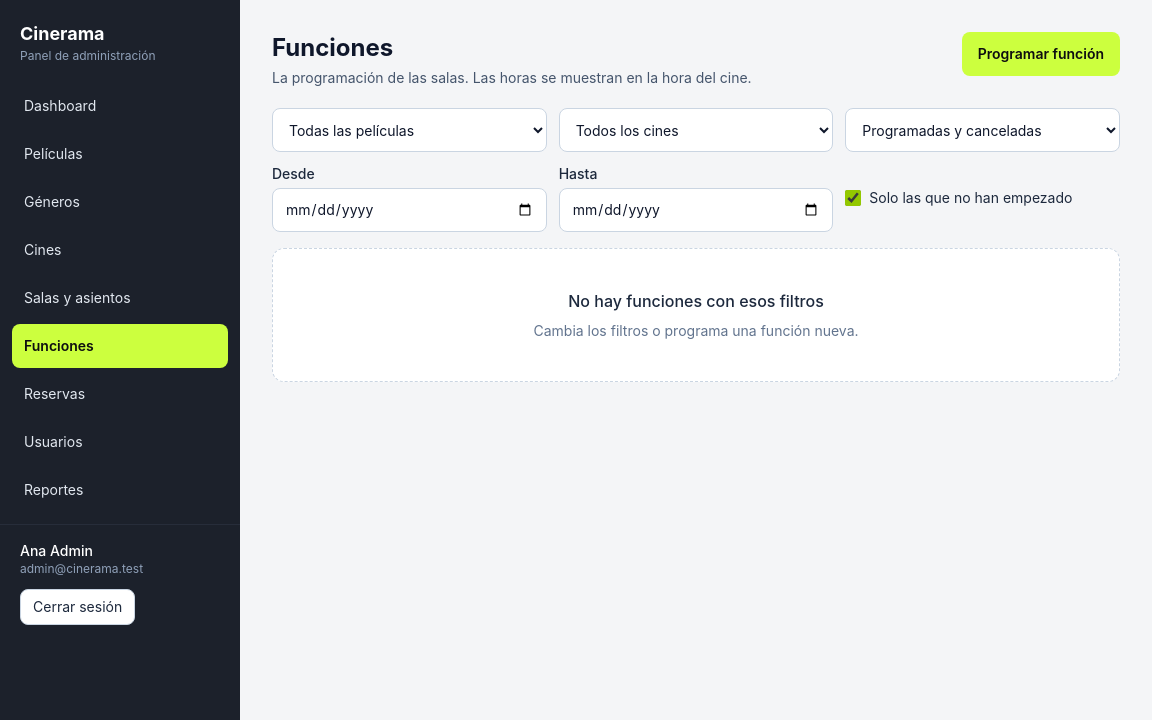
Test: Funciones › la hora que escribe el administrador se envía como UTC según la zona del cine, no la del navegador
Click the button "Programar función": point(1041, 54) [962,32,1120,76]
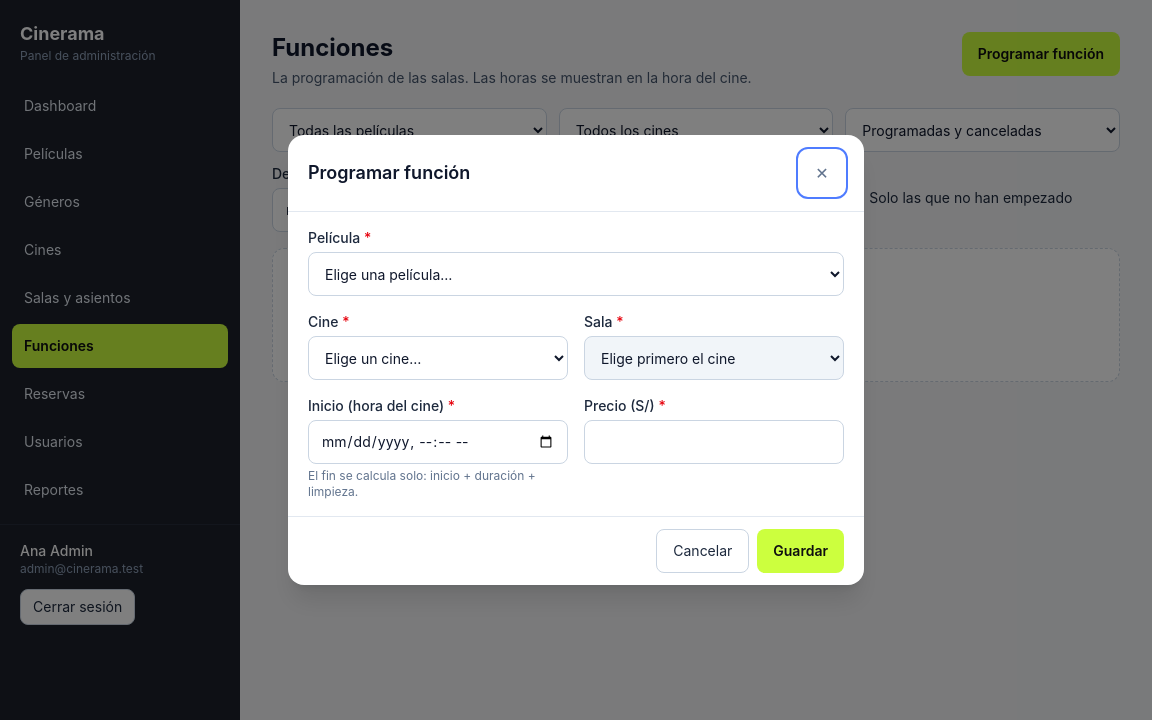
Select "Dune" in the dropdown labelled "Película *": point(576, 274) [308,252,844,296]
Select "Cinerama Centro" in the dropdown labelled "Cine *": point(438, 358) [308,336,568,380]
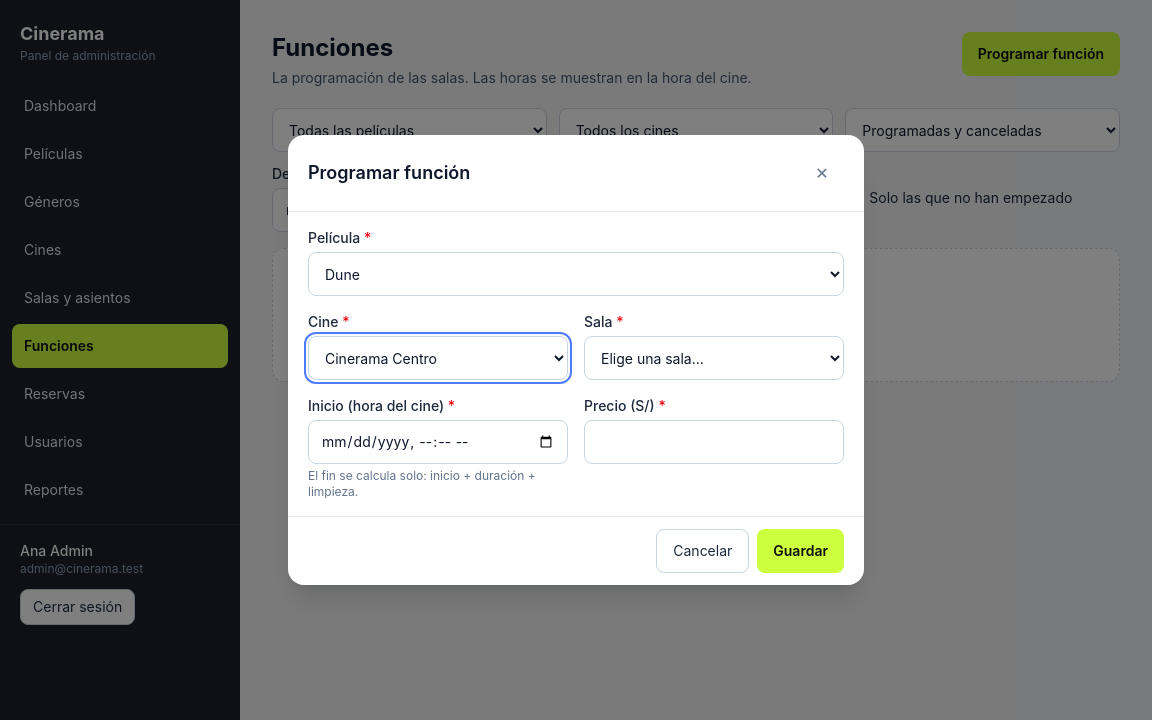
Select "Sala 1 (12 asientos)" in the dropdown labelled "Sala *": point(714, 358) [584,336,844,380]
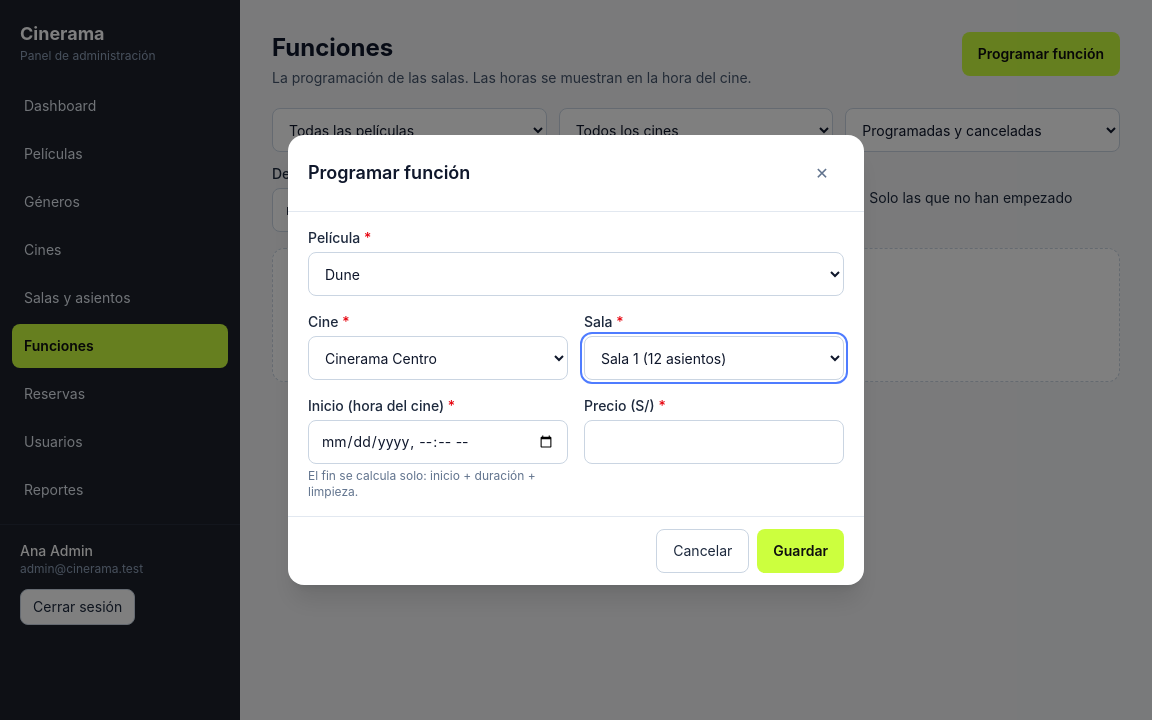
In the field labelled "Inicio (hora del cine) *": point(438, 442) [308,420,568,464], type "2099-03-10T20:00"
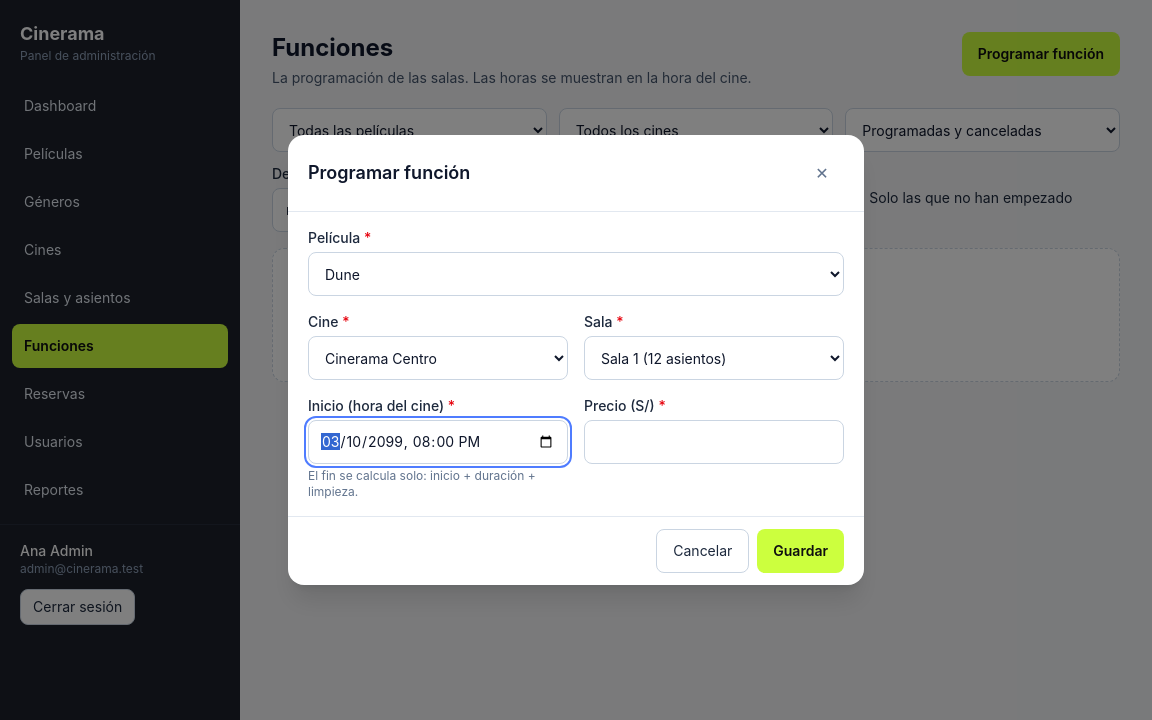
In the number field labelled "Precio (S/) *": point(714, 442) [584,420,844,464], type "25.5"
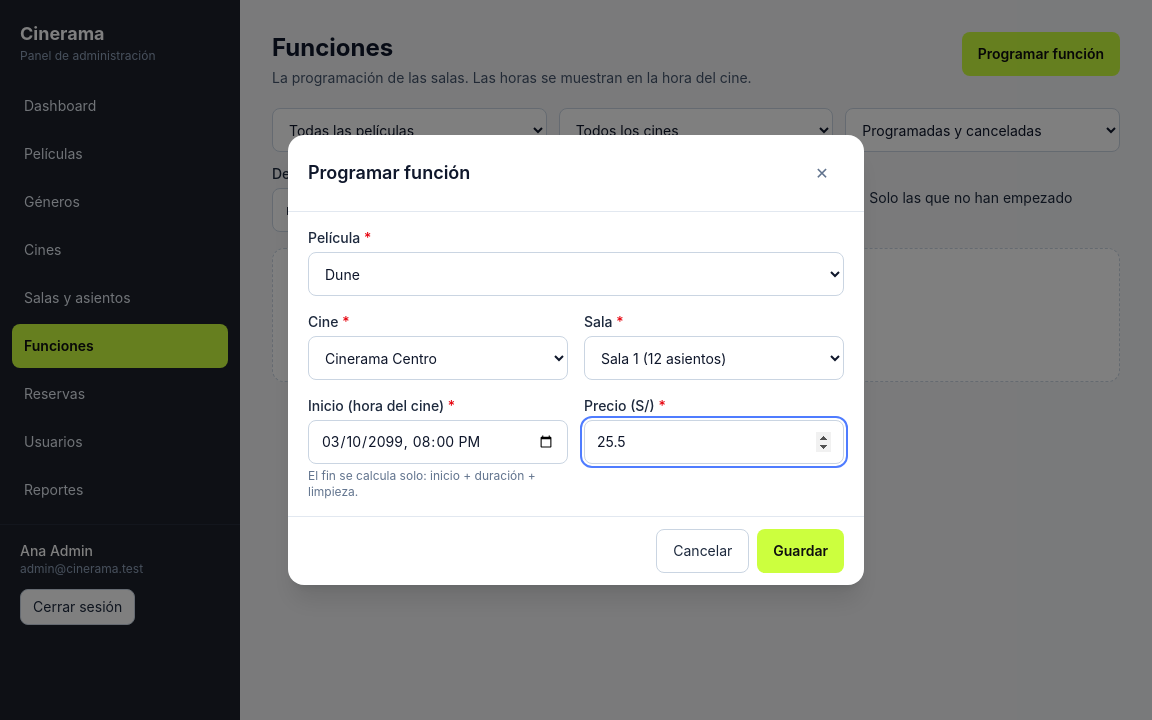
Click the button "Guardar": point(801, 551) [757,529,844,573]
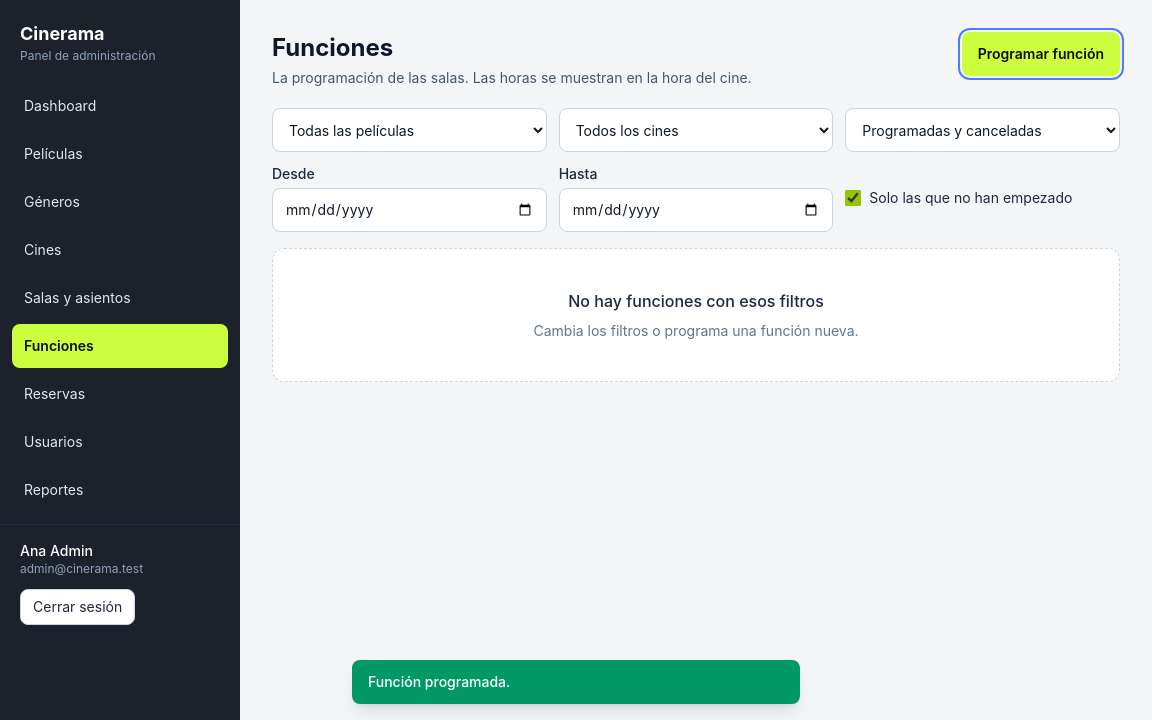
Now the dialog is gone
Now the text "Función programada." is shown, box [352,660,800,704]
